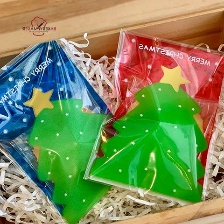snack: (77, 23, 223, 205), (0, 32, 138, 224)
